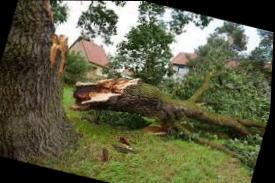Downstairs: (65, 15, 274, 164)
